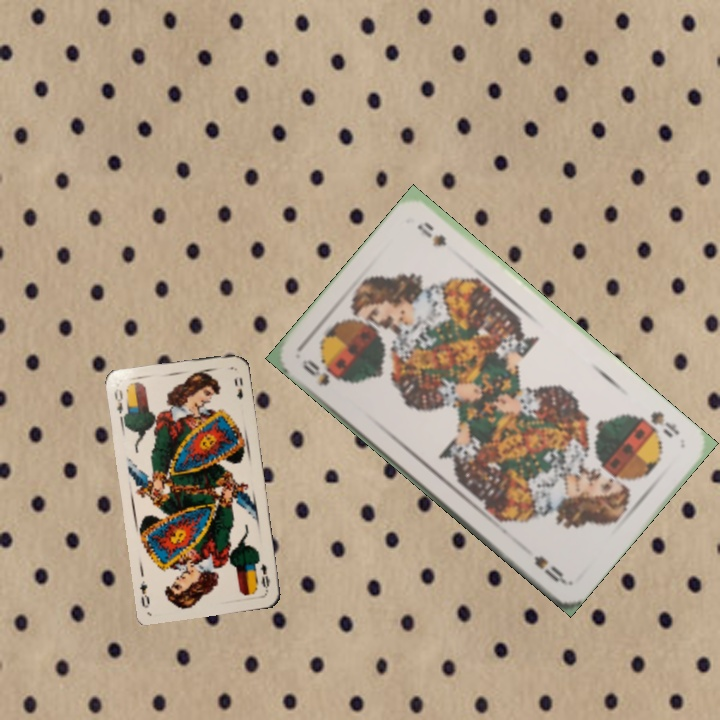EO: (110, 385, 131, 423), (256, 560, 272, 594)
SO: (636, 407, 683, 441), (298, 355, 342, 390)
